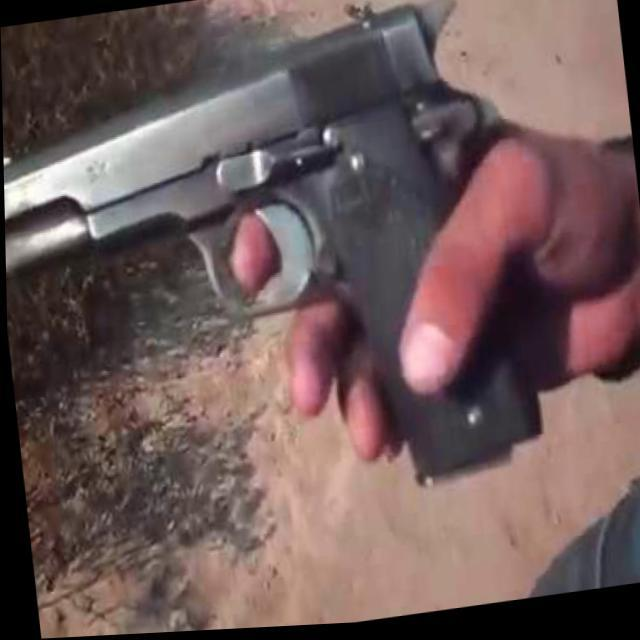weapon: (1, 0, 556, 549)
